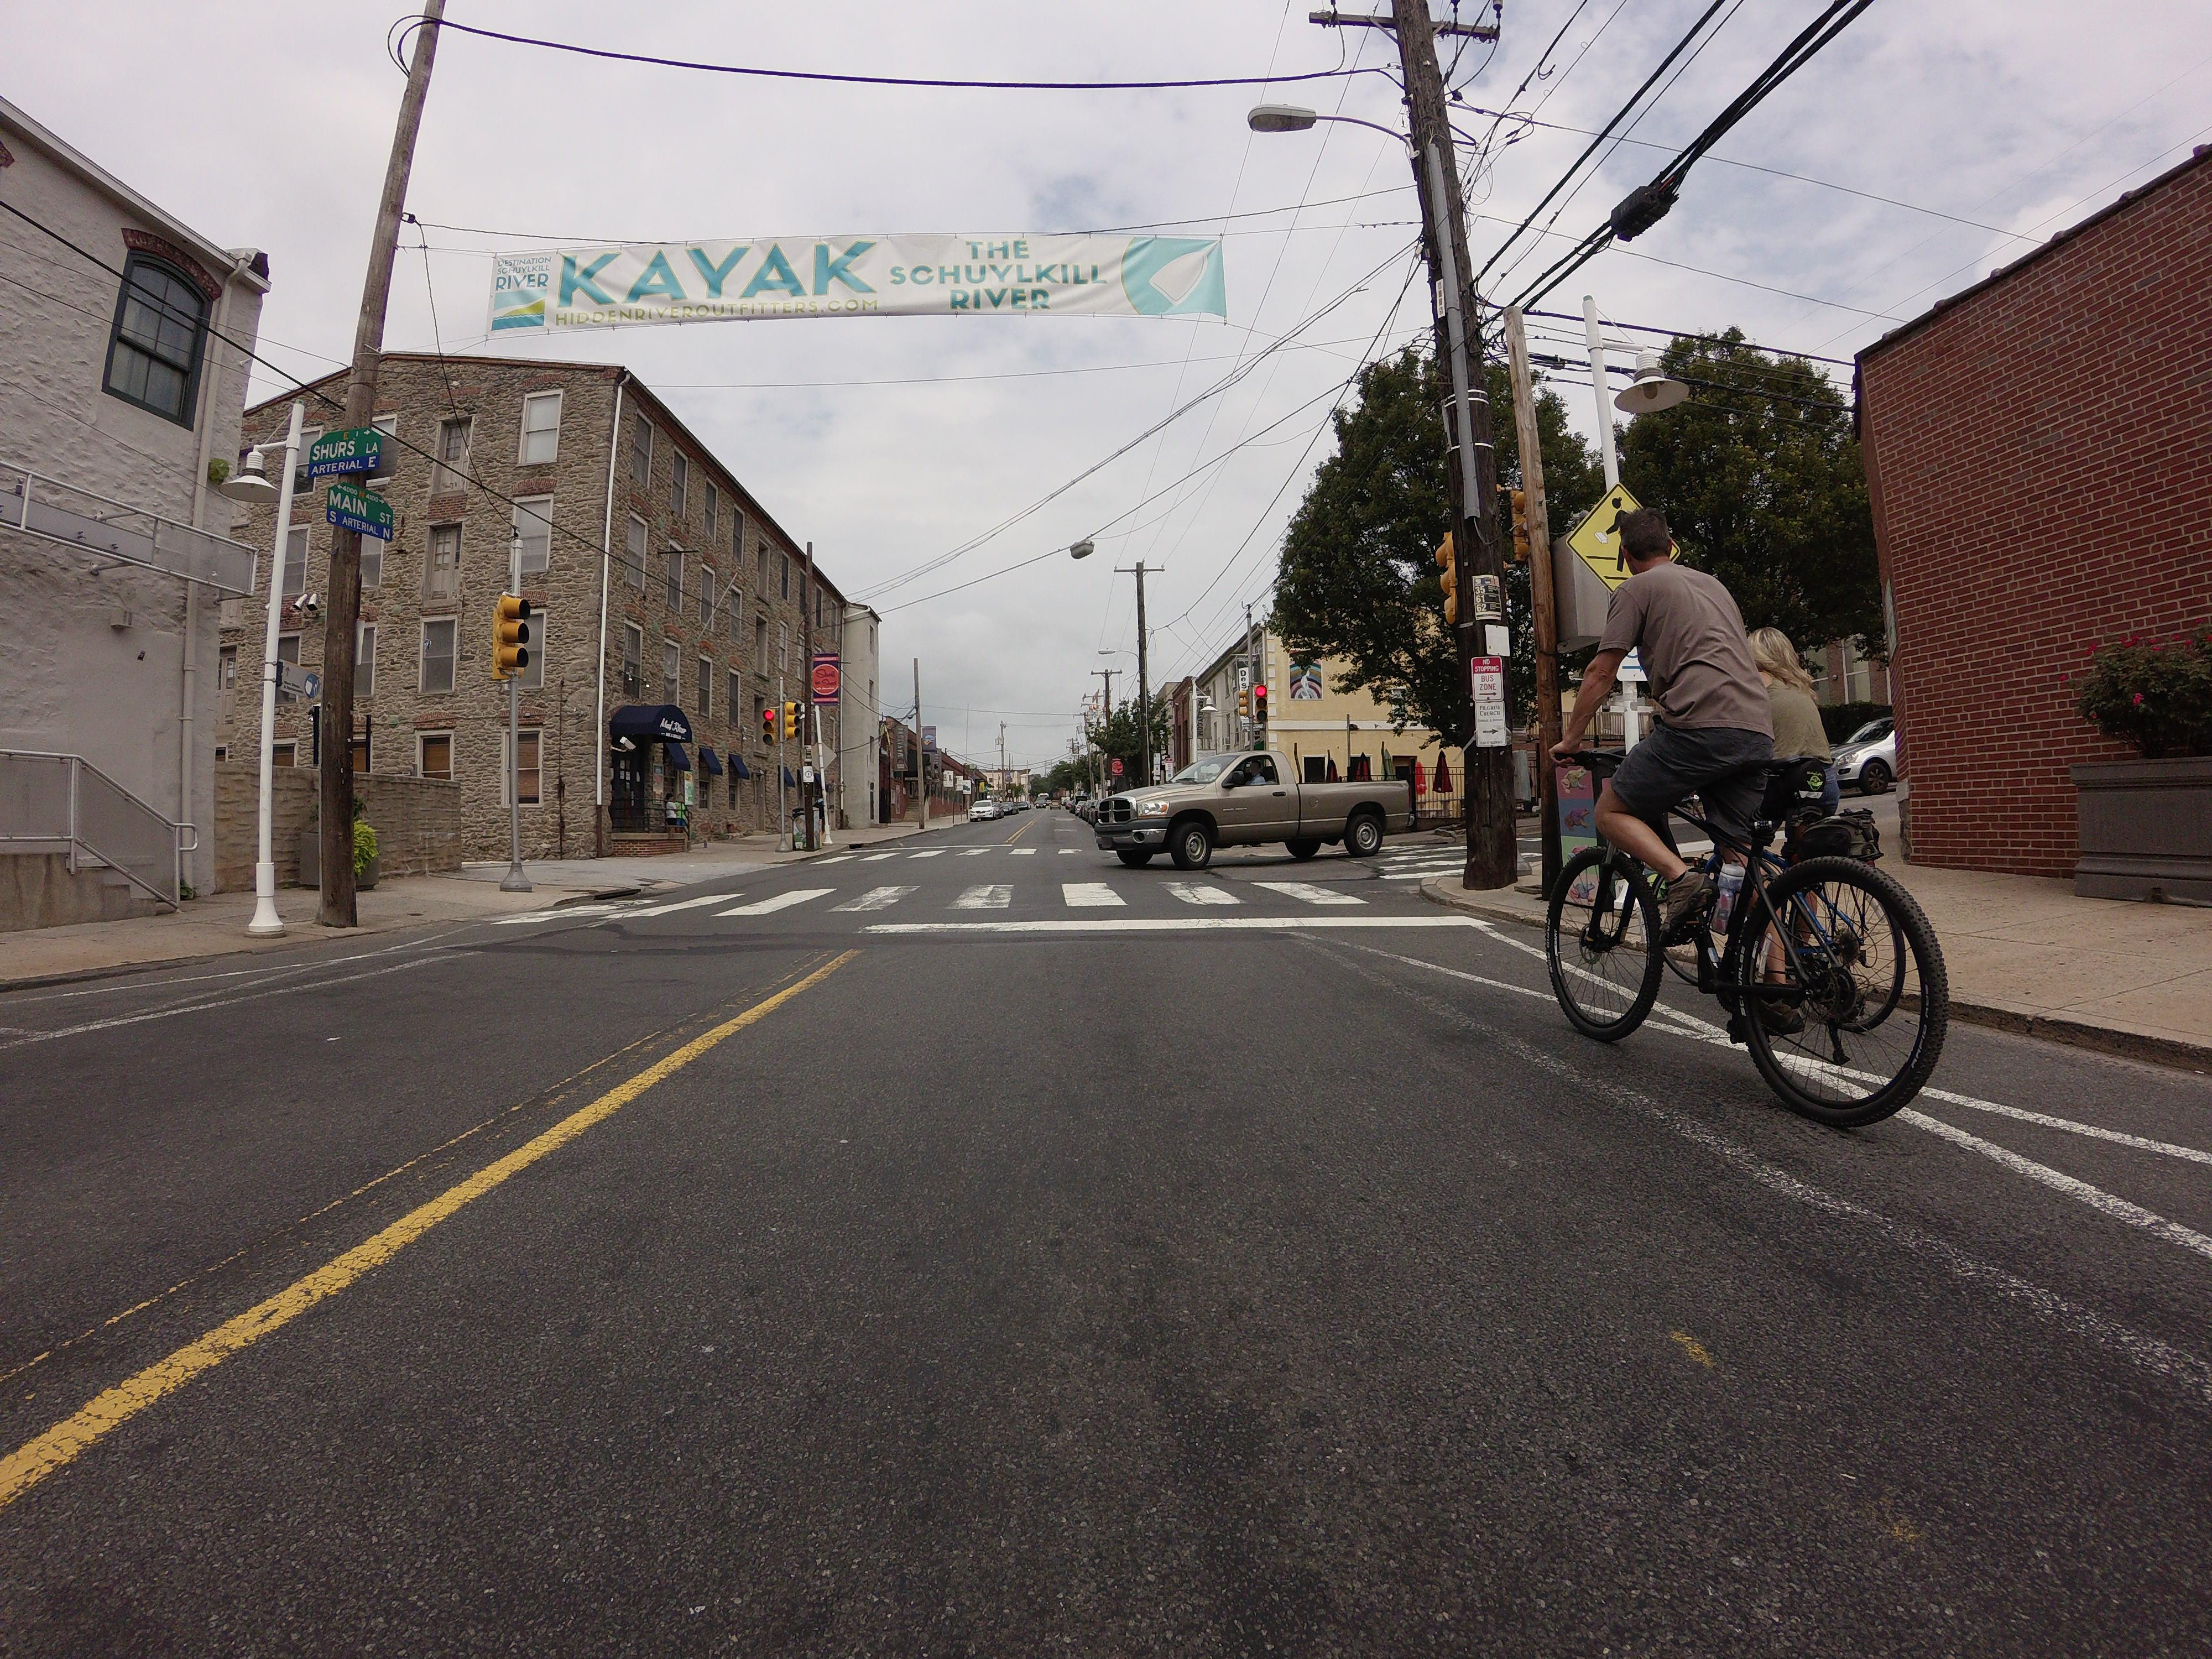vinyl banner: (472, 221, 1240, 350)
